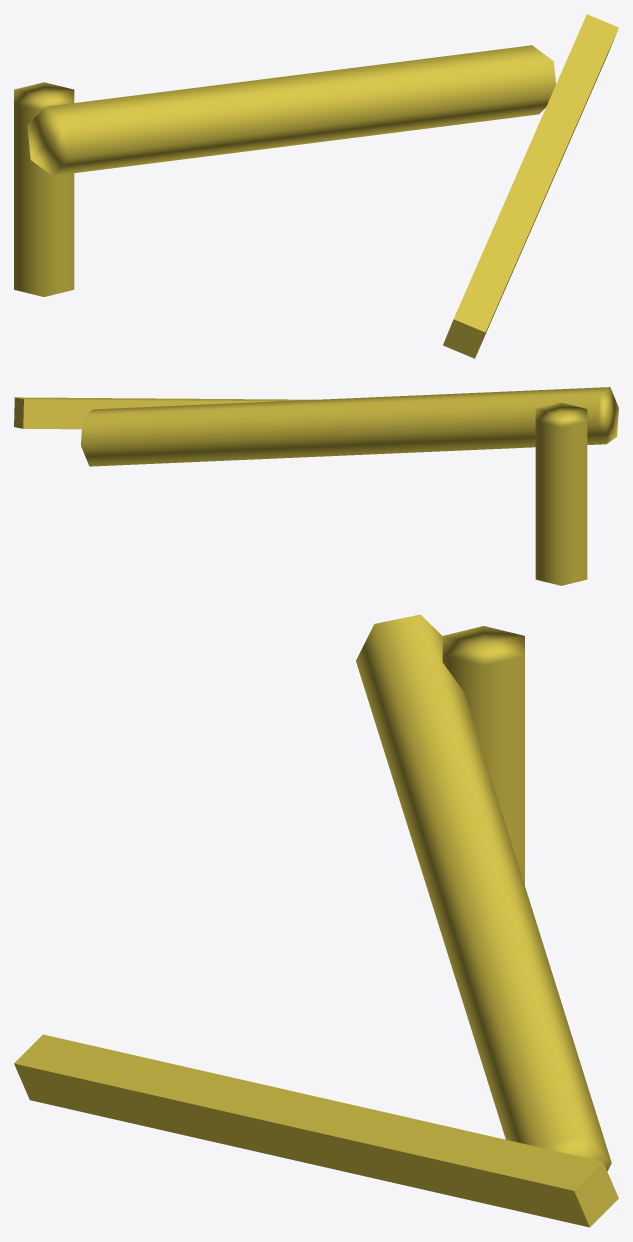
Rendered from construction-crane-wreck.glb.
3 views of the same model, one above another, from view 1: azimuth 30°, elevation 25°; view 2: azimuth 150°, elevation 25°; view 3: azimuth 270°, elevation 25° (orthographic). The views are drawn at different scales.
Parts seen in each view (by area): view 1: Root; view 2: Root; view 3: Root.
Part boxes in pixels (x1,y1,x2,y2): Root: (14, 14, 618, 358); Root: (14, 387, 618, 585); Root: (14, 614, 618, 1227).
Size of the model in its own units: 18.09 by 5.85 by 10.85.
